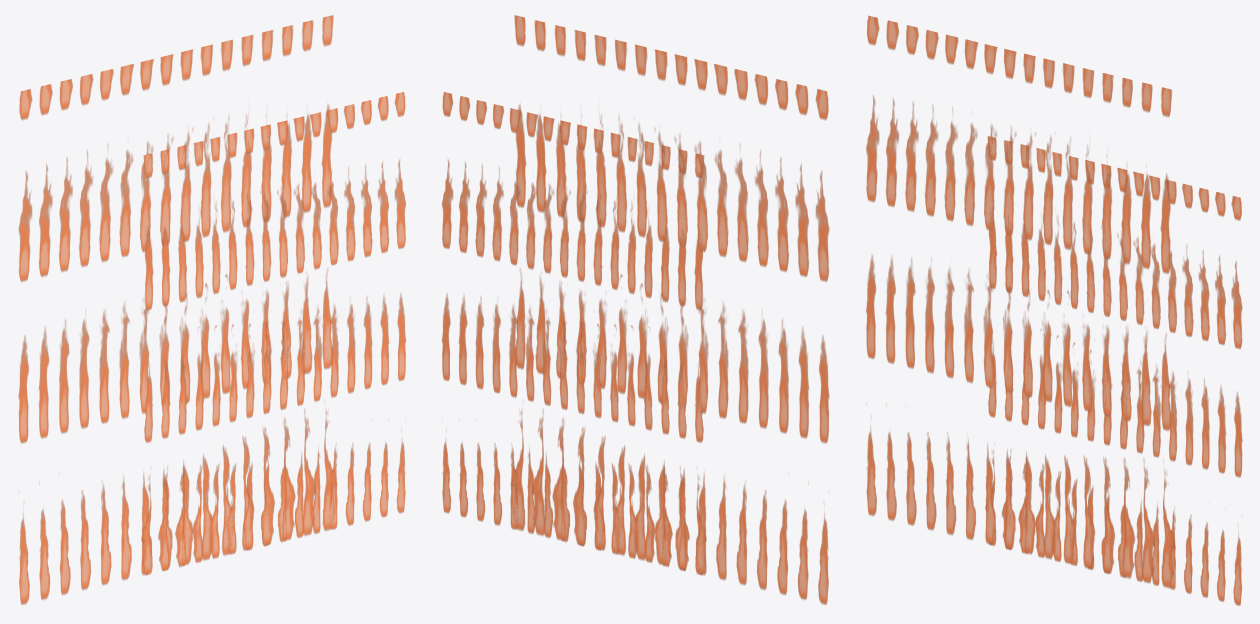
File: mm9_deco_pentafire_orange.glb
The picture shows the model from 3 angles, left to right: view 1: azimuth 30°, elevation 25°; view 2: azimuth 150°, elevation 25°; view 3: azimuth 330°, elevation 25°; orthographic projection. The views are drawn at different scales.
Visible parts, largest first — view 1: Pentafire_orange; view 2: Pentafire_orange; view 3: Pentafire_orange.
Part boxes in pixels (<box>): Pentafire_orange: <box>18,15,405,604</box>; Pentafire_orange: <box>442,15,829,604</box>; Pentafire_orange: <box>866,15,1242,605</box>.
Bounding box in the file's own units: 0.44 × 0.55 × 0.
1 material, 1 textured.
